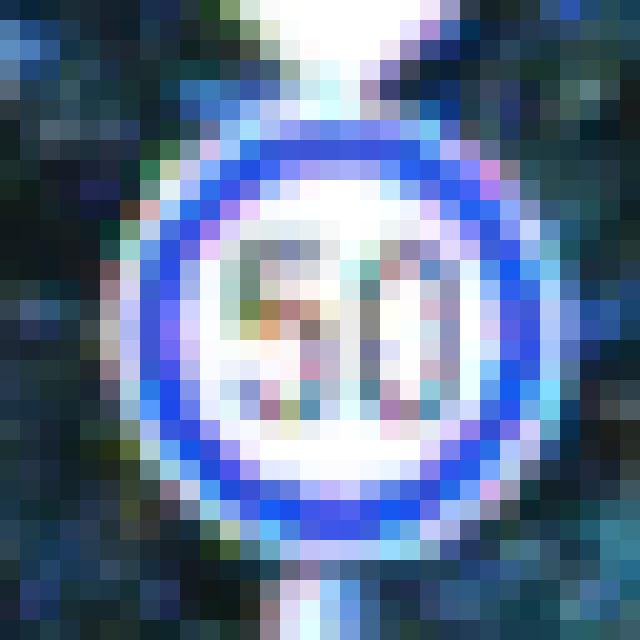SPEED LIMIT 50: (116, 128, 556, 548)
